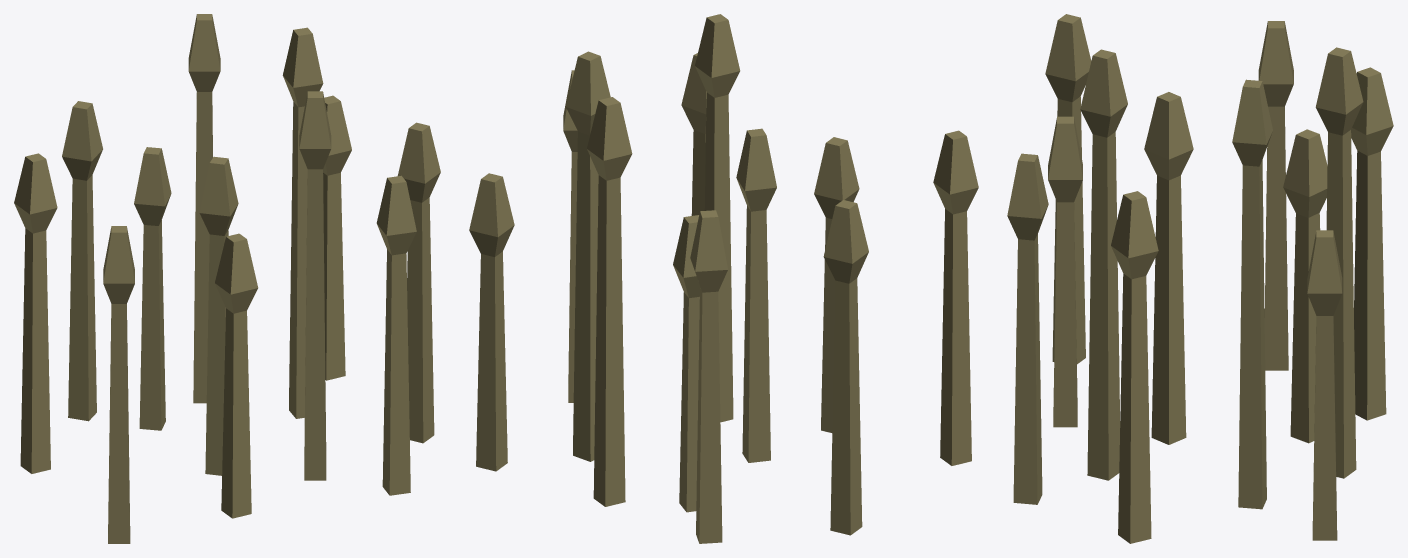
The model's file is reeds.glb.
The picture shows the model from 3 angles, left to right: view 1: azimuth 30°, elevation 25°; view 2: azimuth 150°, elevation 25°; view 3: azimuth 270°, elevation 25°; orthographic projection. The views are drawn at different scales.
Parts seen in each view (by area): view 1: reeds_1; view 2: reeds_1; view 3: reeds_1.
Boxes of the visible parts, x1,y1,x2,y2 form: reeds_1: (14, 14, 440, 543); reeds_1: (469, 14, 978, 543); reeds_1: (1007, 14, 1393, 543).
Size of the model in its own units: 0.2698 by 0.2675 by 0.2233.
